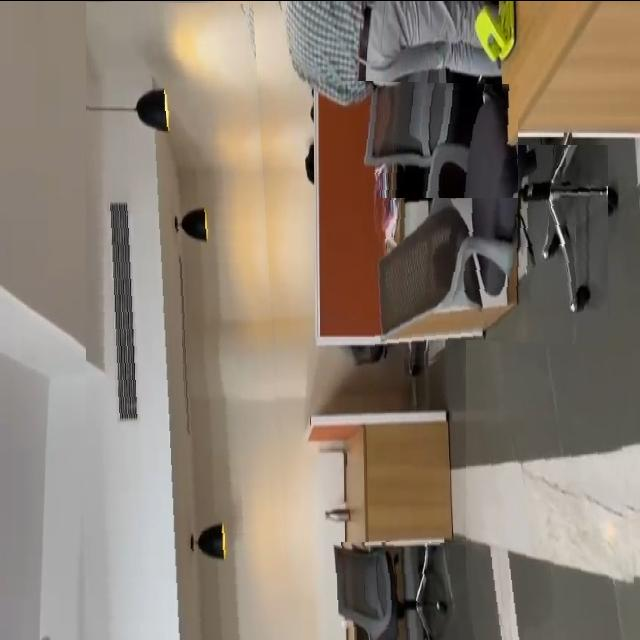floor: (466, 338, 640, 640)
furniture: (367, 144, 608, 365), (349, 80, 518, 197), (330, 541, 472, 640)
wall: (86, 0, 291, 640)
